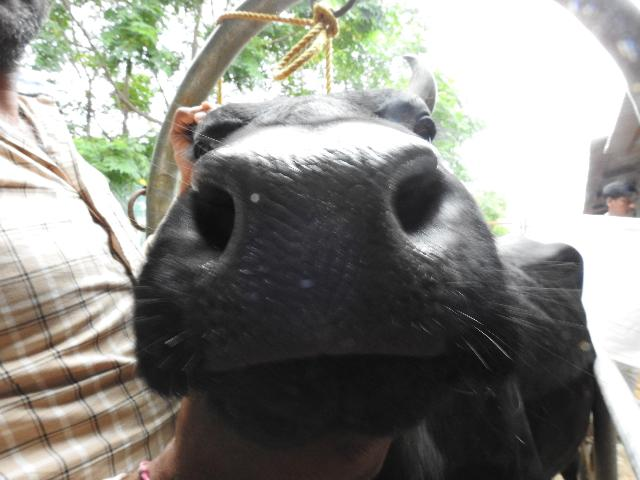Muzzle: (205, 150, 437, 354)
